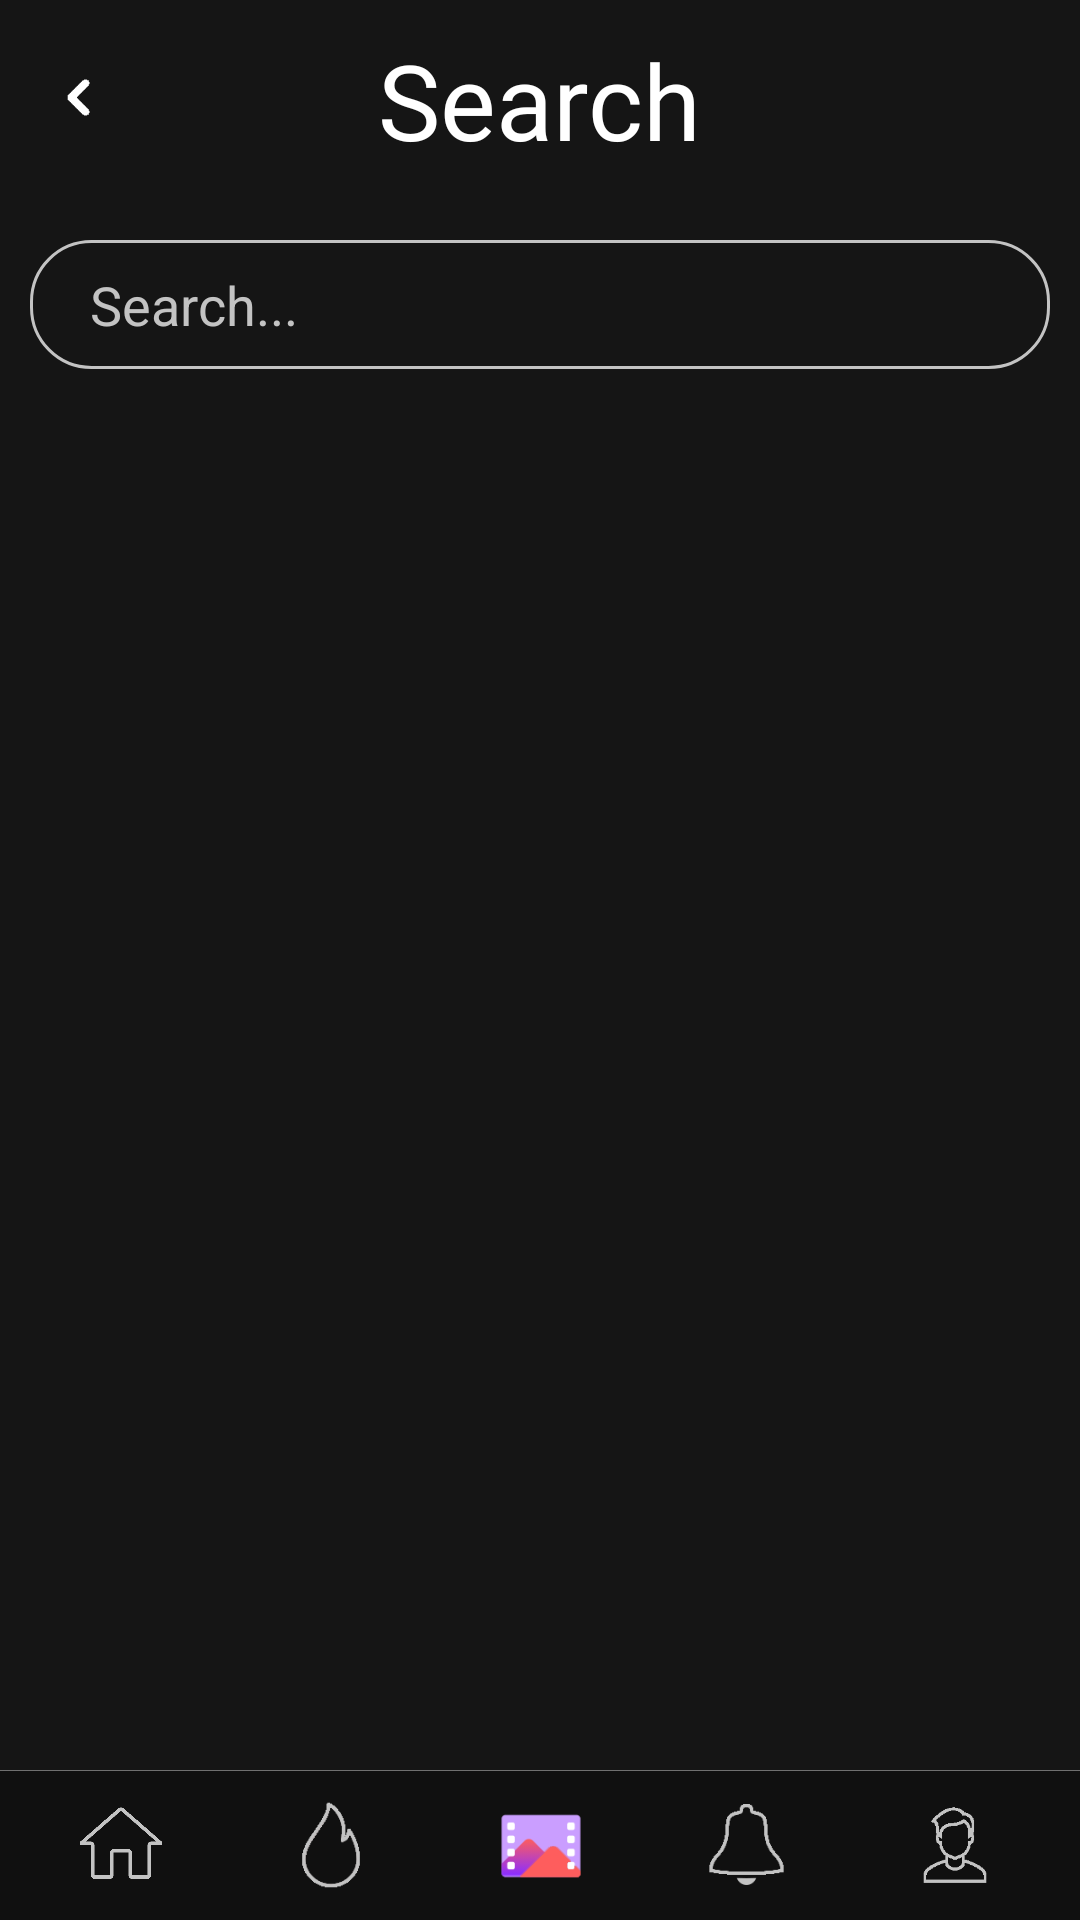

Icon bounding boxes for this 1080 x 1920 phone screenshot, format (x1, y1, x2, y2):
fire: (302, 1802, 360, 1888)
home: (80, 1807, 162, 1879)
notifications: (709, 1804, 784, 1885)
profile: (923, 1807, 987, 1883)
video gallery: (501, 1814, 581, 1878)
